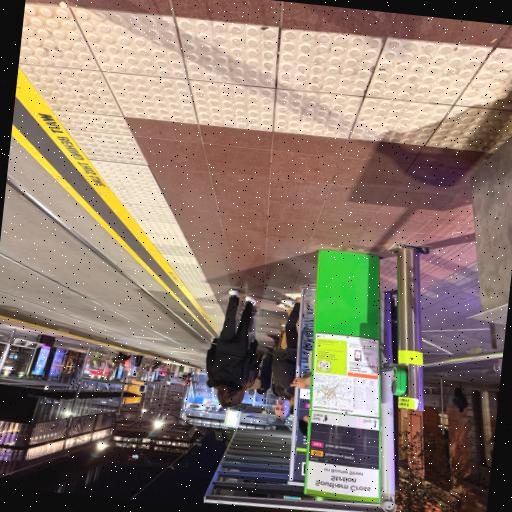Obstruction: (391, 249, 425, 411)
clear_path: (122, 111, 378, 296)
signage: (307, 250, 383, 499)
tgsi: (25, 6, 512, 323)
